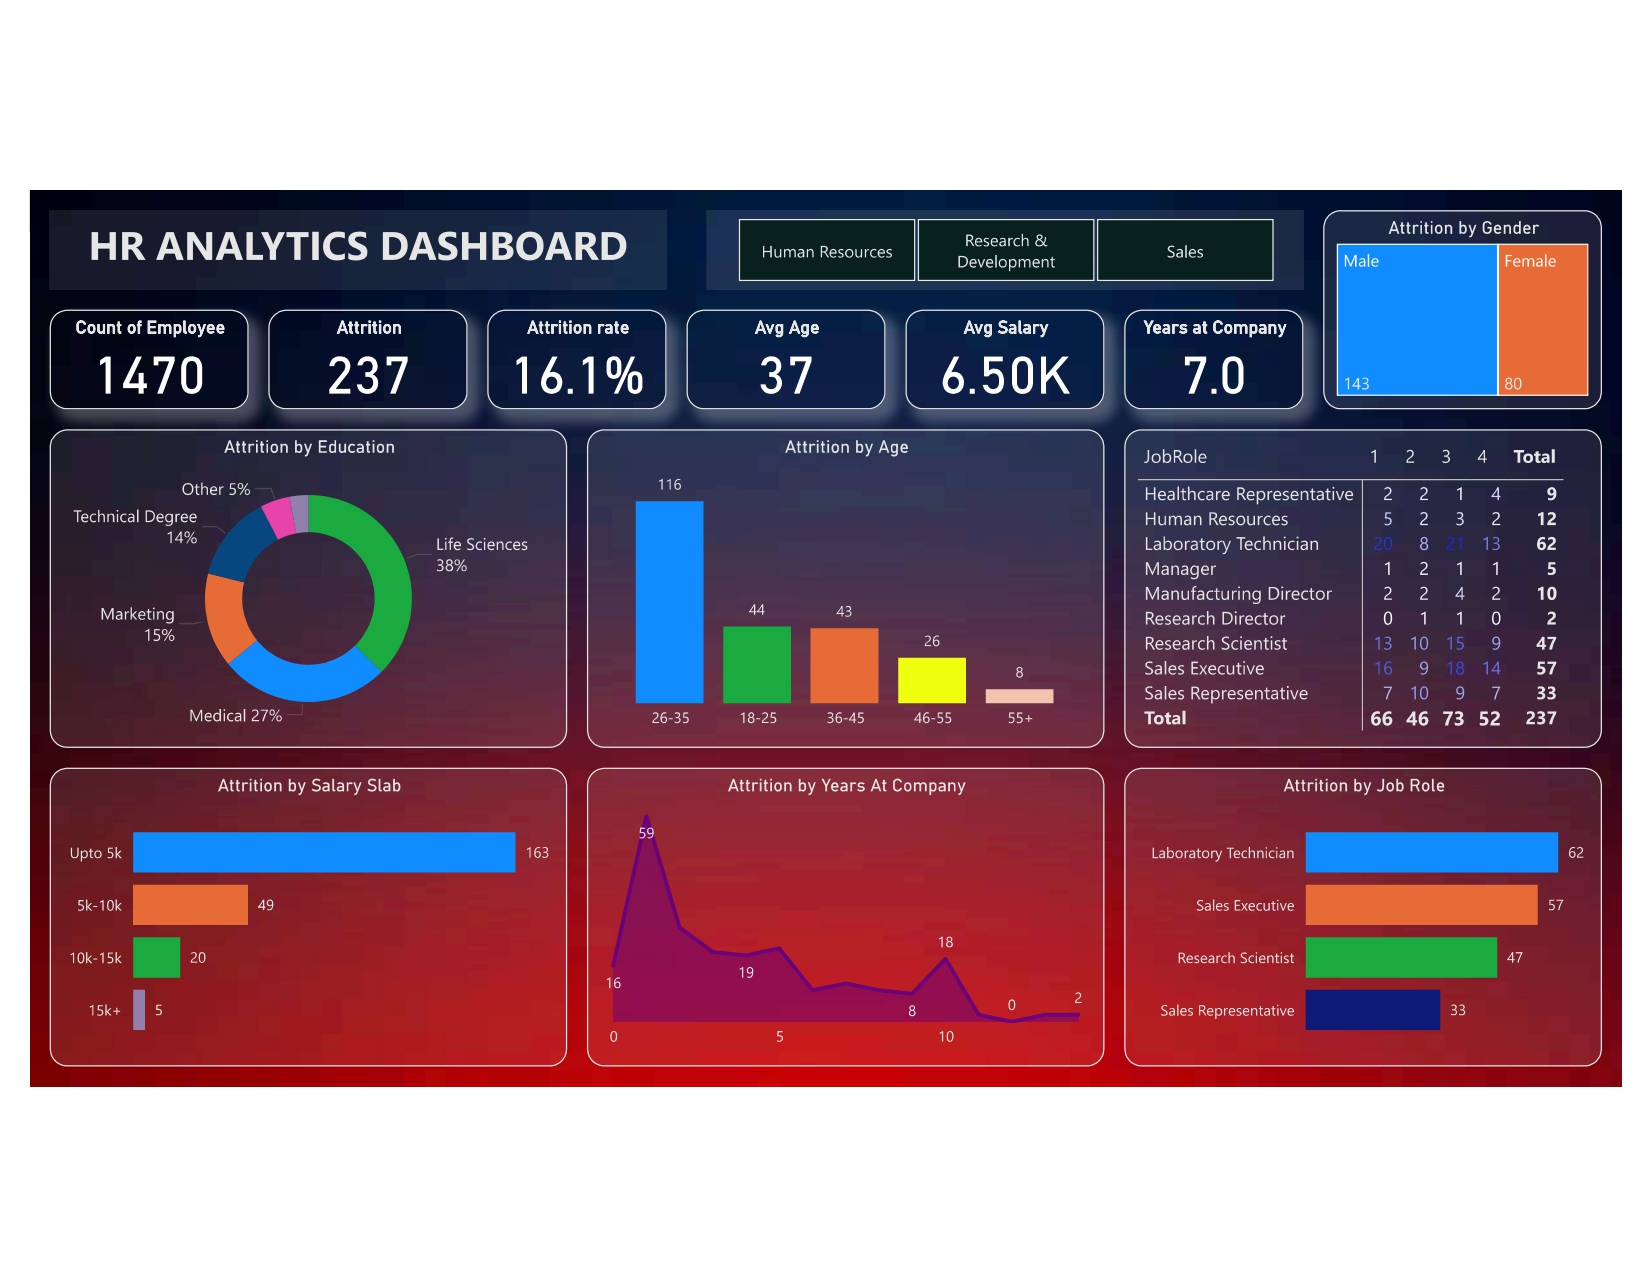

The page's visual inventory and layout, read from the dashboard file:
{"tool":"powerbi","page":{"name":"Page 1","canvas":[1280,720],"ordinal":0},"visuals":[{"type":"card","title":"Attrition rate","fields":{"Values":["HR_Analytics.AttritionRate"]},"box":[368,96,144,80],"z":0},{"type":"card","title":"Avg Age","fields":{"Values":["Avg(HR_Analytics.Age)"]},"box":[528,96,160,80],"z":1000},{"type":"card","title":"Avg Salary","fields":{"Values":["Avg(HR_Analytics.MonthlyIncome)"]},"box":[704,96,160,80],"z":2000},{"type":"card","title":"Years at Company","fields":{"Values":["Avg(HR_Analytics.YearsAtCompany)"]},"box":[880,96,144,80],"z":3000},{"type":"donutChart","title":"Attrition by Education","fields":{"Category":["HR_Analytics.EducationField"],"Y":["Sum(HR_Analytics.Attrition count)"]},"box":[16,192,416,256],"z":4000},{"type":"columnChart","title":"Attrition by Age","fields":{"Category":["HR_Analytics.AgeGroup"],"Y":["Sum(HR_Analytics.Attrition count)"]},"box":[448,192,416,256],"z":5000},{"type":"pivotTable","fields":{"Rows":["HR_Analytics.JobRole"],"Columns":["HR_Analytics.JobSatisfaction"],"Values":["Sum(HR_Analytics.Attrition count)"]},"box":[880,192,384,256],"z":6000},{"type":"card","title":"Attrition","fields":{"Values":["Sum(HR_Analytics.Attrition count)"]},"box":[192,96,160,80],"z":7000},{"type":"card","title":"Count of Employee","fields":{"Values":["Sum(HR_Analytics.EmployeeCount)"]},"box":[16,96,160,80],"z":8000},{"type":"barChart","title":"Attrition by Salary Slab","fields":{"Category":["HR_Analytics.SalarySlab"],"Y":["Sum(HR_Analytics.Attrition count)"]},"box":[16,464,416,240],"z":9000},{"type":"barChart","title":"Attrition by Job Role","fields":{"Category":["HR_Analytics.JobRole"],"Y":["Sum(HR_Analytics.Attrition count)"]},"box":[880,464,384,240],"z":10000},{"type":"areaChart","title":"Attrition by Years At Company","fields":{"Category":["HR_Analytics.YearsAtCompany"],"Y":["Sum(HR_Analytics.Attrition count)"]},"box":[448,464,416,240],"z":11000},{"type":"treemap","title":"Attrition by Gender","fields":{"Group":["HR_Analytics.Gender"],"Values":["Sum(HR_Analytics.Attrition count)"]},"box":[1040,16,224,160],"z":12000},{"type":"textbox","box":[16,16,496,64],"z":13000},{"type":"slicer","fields":{"Values":["HR_Analytics.Department"]},"box":[544,16,480,64],"z":14000}]}

Visuals, with their boxes in screenshot pixels (x1, y1, x2, y2):
"Attrition rate" card: l=476, t=311, r=659, b=413
"Avg Age" card: l=680, t=311, r=883, b=413
"Avg Salary" card: l=904, t=311, r=1107, b=413
"Years at Company" card: l=1127, t=311, r=1310, b=413
"Attrition by Education" donutChart: l=29, t=433, r=558, b=759
"Attrition by Age" columnChart: l=578, t=433, r=1107, b=759
pivotTable - HR_Analytics.JobRole x HR_Analytics.JobSatisfaction: l=1127, t=433, r=1615, b=759
"Attrition" card: l=253, t=311, r=456, b=413
"Count of Employee" card: l=29, t=311, r=232, b=413
"Attrition by Salary Slab" barChart: l=29, t=779, r=558, b=1084
"Attrition by Job Role" barChart: l=1127, t=779, r=1615, b=1084
"Attrition by Years At Company" areaChart: l=578, t=779, r=1107, b=1084
"Attrition by Gender" treemap: l=1331, t=209, r=1615, b=413
textbox: l=29, t=209, r=659, b=291
slicer - HR_Analytics.Department: l=700, t=209, r=1310, b=291
